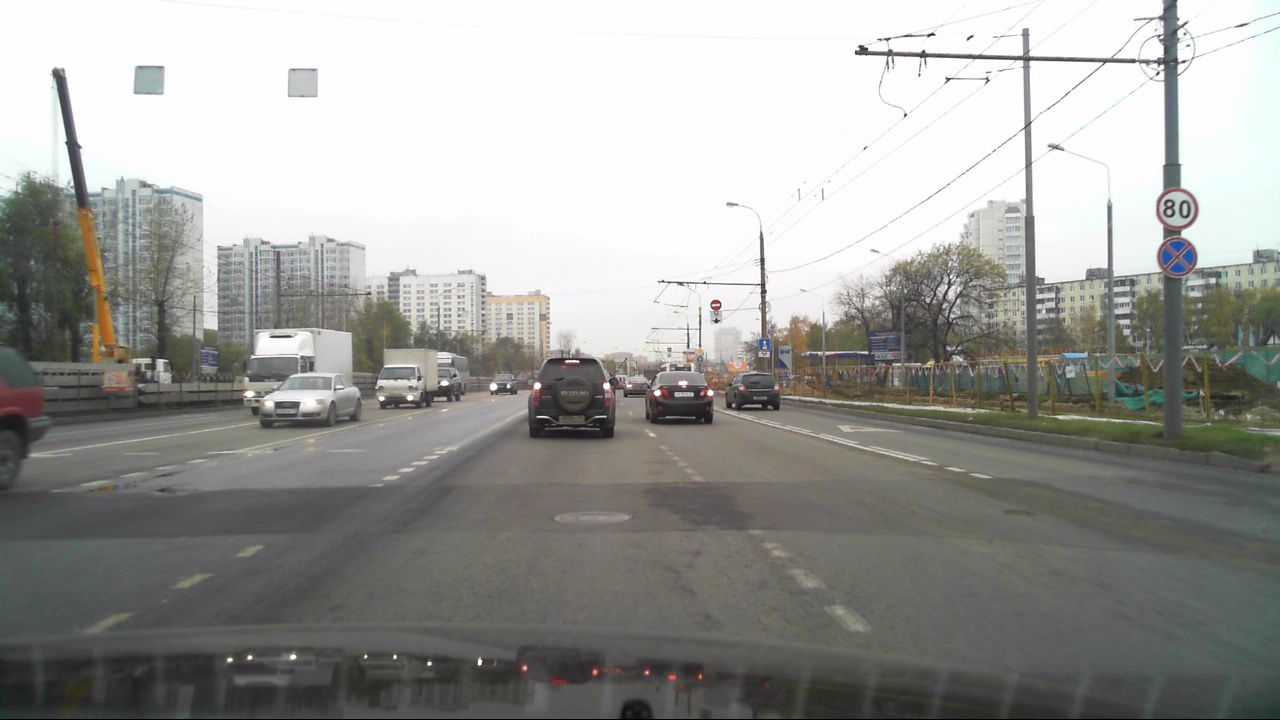No Parking: (1157, 238, 1198, 278)
